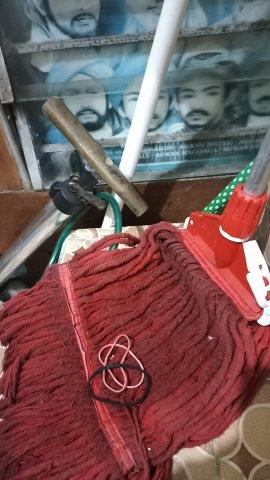karet: (87, 334, 152, 407)
